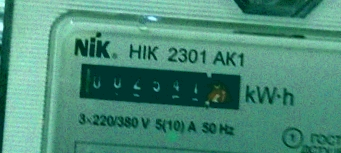0: (88, 68, 103, 90), (110, 68, 123, 90)
1: (188, 75, 201, 96)
2: (129, 71, 143, 92)
4: (169, 73, 183, 95)
5: (148, 71, 162, 94)
6: (210, 89, 222, 105)
screen: (67, 52, 253, 120)
